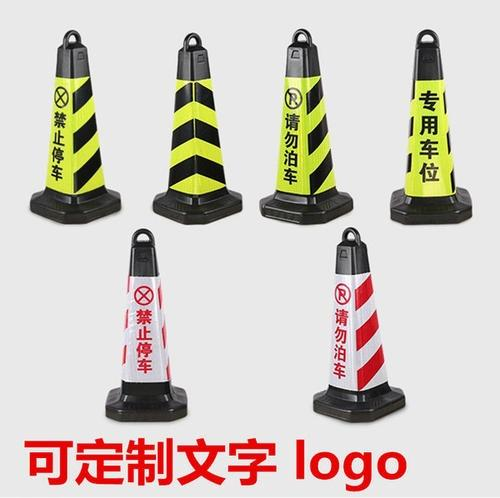cone_barrel: (306, 232, 407, 420), (24, 33, 118, 224), (258, 32, 351, 221), (150, 37, 242, 223), (101, 231, 187, 421), (387, 33, 470, 222)
